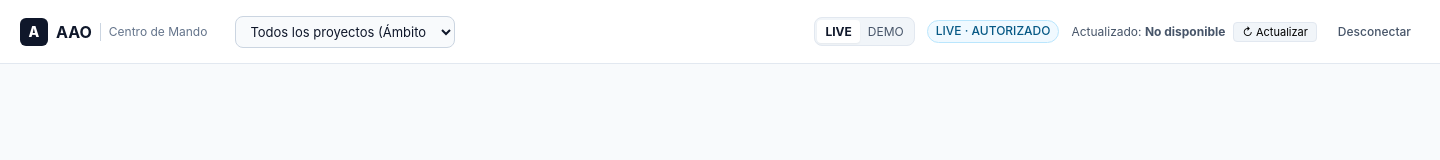
Test: does not claim logout succeeded when server-side revocation fails
Click the button "Desconectar" at (1374, 32), box [1329,16,1420,48]
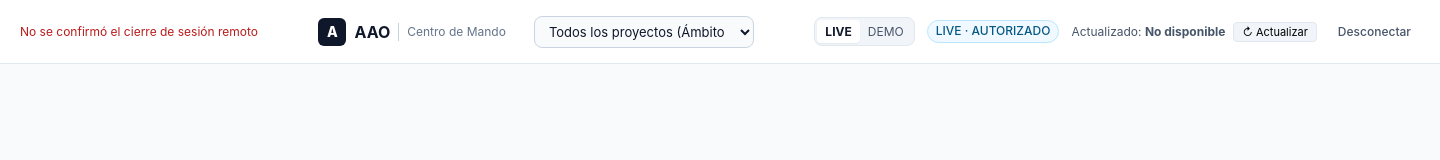
Expected: the message shows "No se confirmó el cierre", [20,24,258,38]
